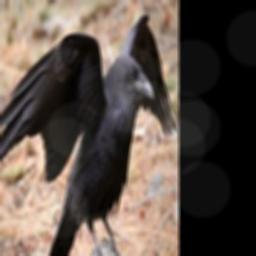Crow: (0, 11, 177, 256)
